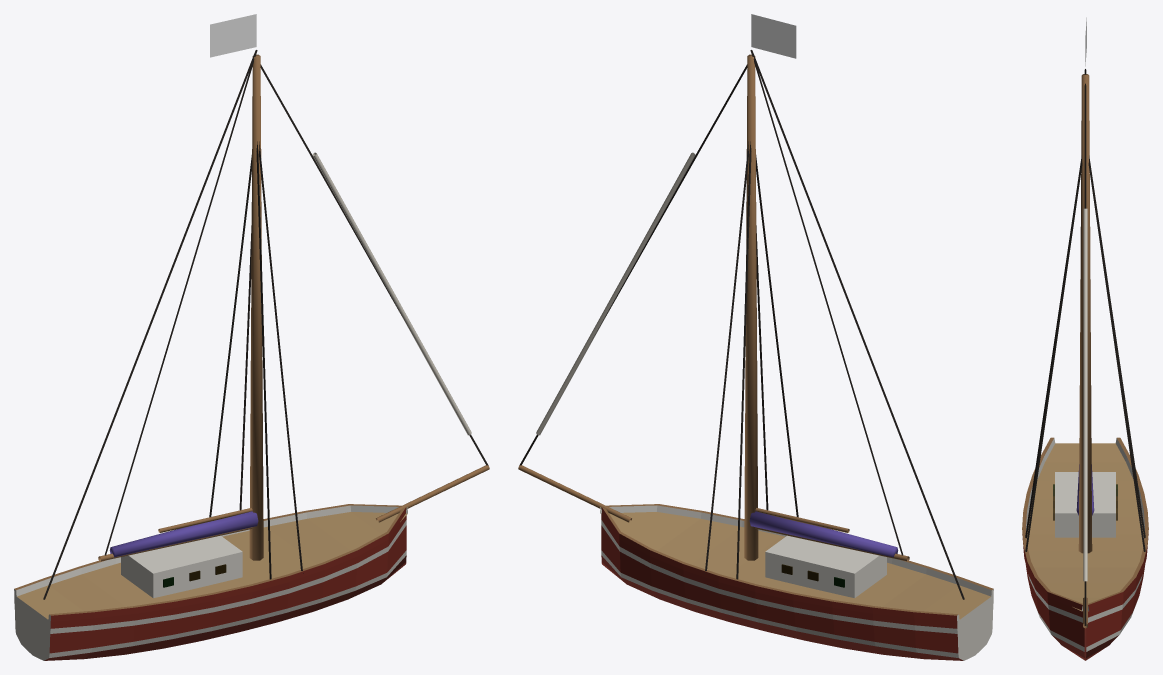
Rendered from hull_sloop_medium_docked.glb.
3 views of the same model, side by side, from view 1: azimuth 30°, elevation 25°; view 2: azimuth 150°, elevation 25°; view 3: azimuth 270°, elevation 25° (orthographic). The views are drawn at different scales.
Visible parts, largest first — view 1: hull_sloop_medium_docked_hull, hull_sloop_medium_docked_rigging, hull_sloop_medium_docked_mast, hull_sloop_medium_docked_deck, hull_sloop_medium_docked_sail_cover_fore, hull_sloop_medium_docked_sail_furled, hull_sloop_medium_docked_flag; view 2: hull_sloop_medium_docked_hull, hull_sloop_medium_docked_rigging, hull_sloop_medium_docked_mast, hull_sloop_medium_docked_deck, hull_sloop_medium_docked_sail_cover_fore, hull_sloop_medium_docked_sail_furled, hull_sloop_medium_docked_flag; view 3: hull_sloop_medium_docked_hull, hull_sloop_medium_docked_mast, hull_sloop_medium_docked_rigging, hull_sloop_medium_docked_deck, hull_sloop_medium_docked_sail_furled.
Part boxes in pixels (x1,y1,x2,y2): hull_sloop_medium_docked_hull: (14, 504, 407, 660); hull_sloop_medium_docked_rigging: (43, 50, 488, 599); hull_sloop_medium_docked_mast: (158, 54, 489, 560); hull_sloop_medium_docked_deck: (121, 535, 242, 598); hull_sloop_medium_docked_sail_cover_fore: (109, 511, 258, 557); hull_sloop_medium_docked_sail_furled: (312, 152, 471, 435); hull_sloop_medium_docked_flag: (210, 14, 256, 57); hull_sloop_medium_docked_hull: (600, 504, 993, 660); hull_sloop_medium_docked_rigging: (519, 50, 964, 599); hull_sloop_medium_docked_mast: (518, 54, 849, 560); hull_sloop_medium_docked_deck: (765, 535, 886, 598); hull_sloop_medium_docked_sail_cover_fore: (749, 511, 898, 557); hull_sloop_medium_docked_sail_furled: (536, 152, 695, 435); hull_sloop_medium_docked_flag: (751, 14, 796, 58); hull_sloop_medium_docked_hull: (1022, 437, 1148, 660); hull_sloop_medium_docked_mast: (1078, 74, 1092, 628); hull_sloop_medium_docked_rigging: (1025, 69, 1145, 625); hull_sloop_medium_docked_deck: (1055, 472, 1115, 537); hull_sloop_medium_docked_sail_furled: (1083, 208, 1087, 581).
Bounding box in the file's own units: 15.89 × 19.98 × 4.03.
